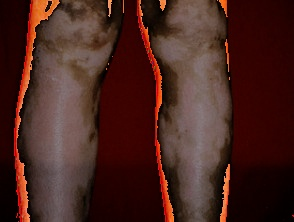vitiligo: (0, 0, 130, 222), (136, 0, 235, 222)
